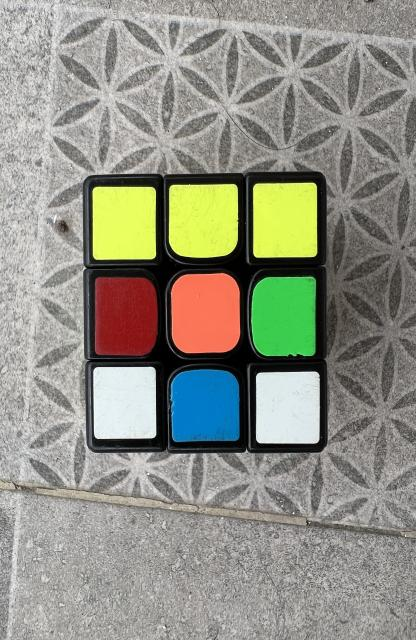Blue: (171, 369, 239, 442)
Green: (251, 276, 316, 356)
Orange: (171, 272, 240, 354)
Red: (95, 278, 158, 356)
White: (93, 366, 157, 439), (256, 371, 320, 444)
Yellow: (169, 184, 238, 258), (254, 182, 317, 258), (92, 186, 156, 260)
